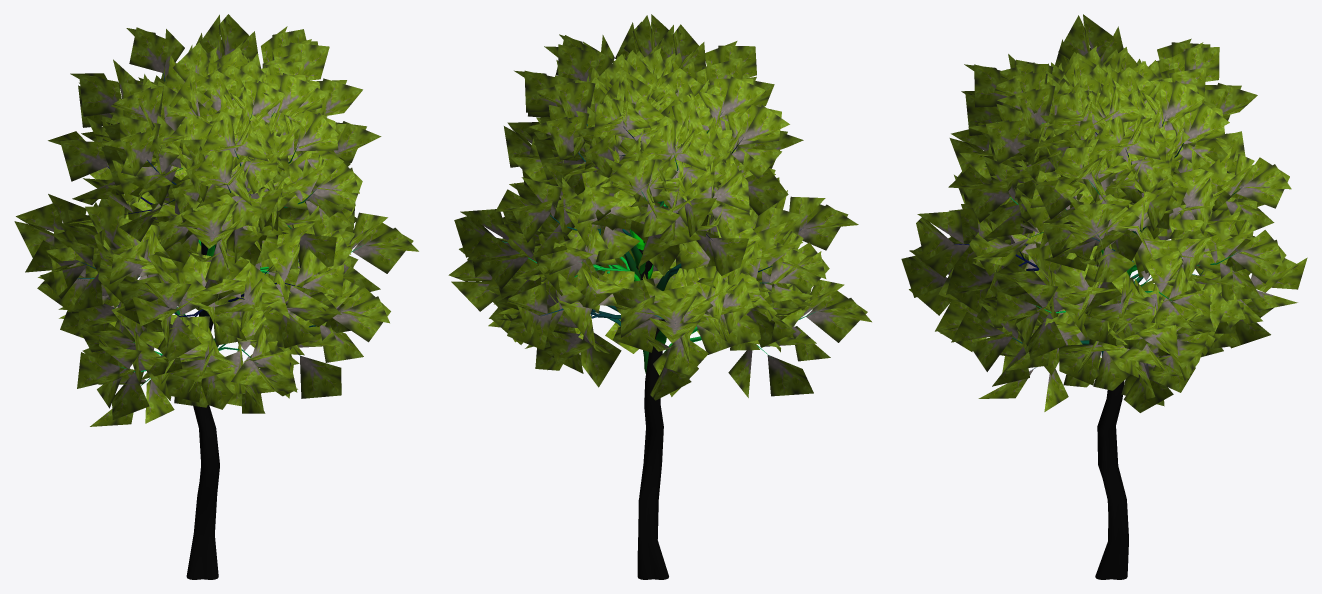
Rendered from ElmTree06.fbx.
The picture shows the model from 3 angles, left to right: view 1: azimuth 30°, elevation 25°; view 2: azimuth 150°, elevation 25°; view 3: azimuth 270°, elevation 25°; orthographic projection. The views are drawn at different scales.
Visible parts, largest first — view 1: Tree_1, Tree_0; view 2: Tree_1, Tree_0; view 3: Tree_1, Tree_0.
Part boxes in pixels (left/top/right/bottom): Tree_1: left=14, top=14, right=418, bottom=426; Tree_0: left=77, top=73, right=364, bottom=579; Tree_1: left=448, top=14, right=871, bottom=400; Tree_0: left=502, top=112, right=814, bottom=579; Tree_1: left=901, top=14, right=1307, bottom=412; Tree_0: left=954, top=117, right=1241, bottom=579.
Size of the model in its own units: 64.49 by 91.91 by 64.34.
